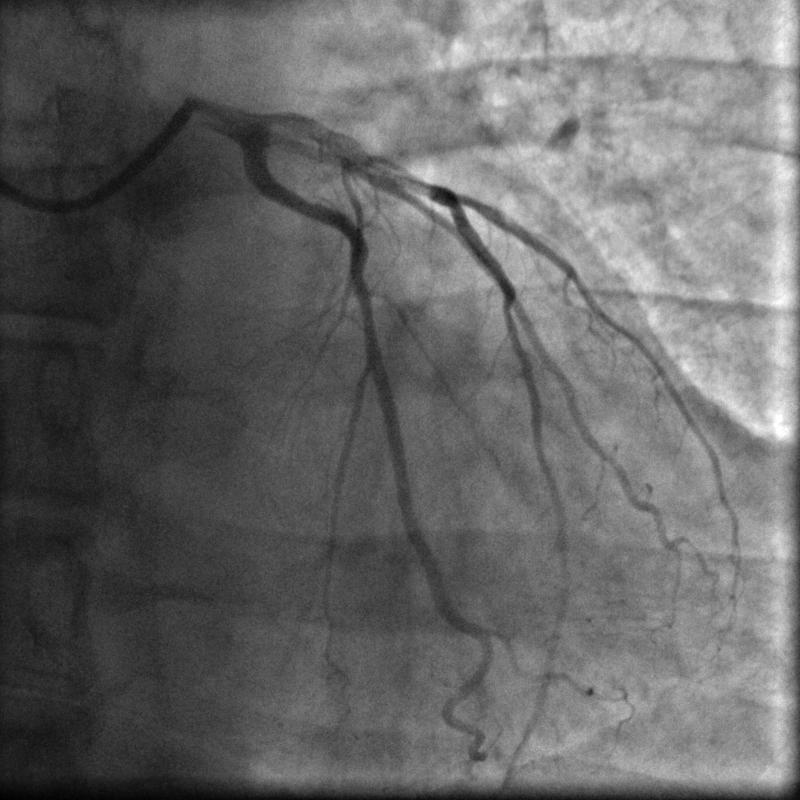Stenosis: (354, 152, 435, 199)
